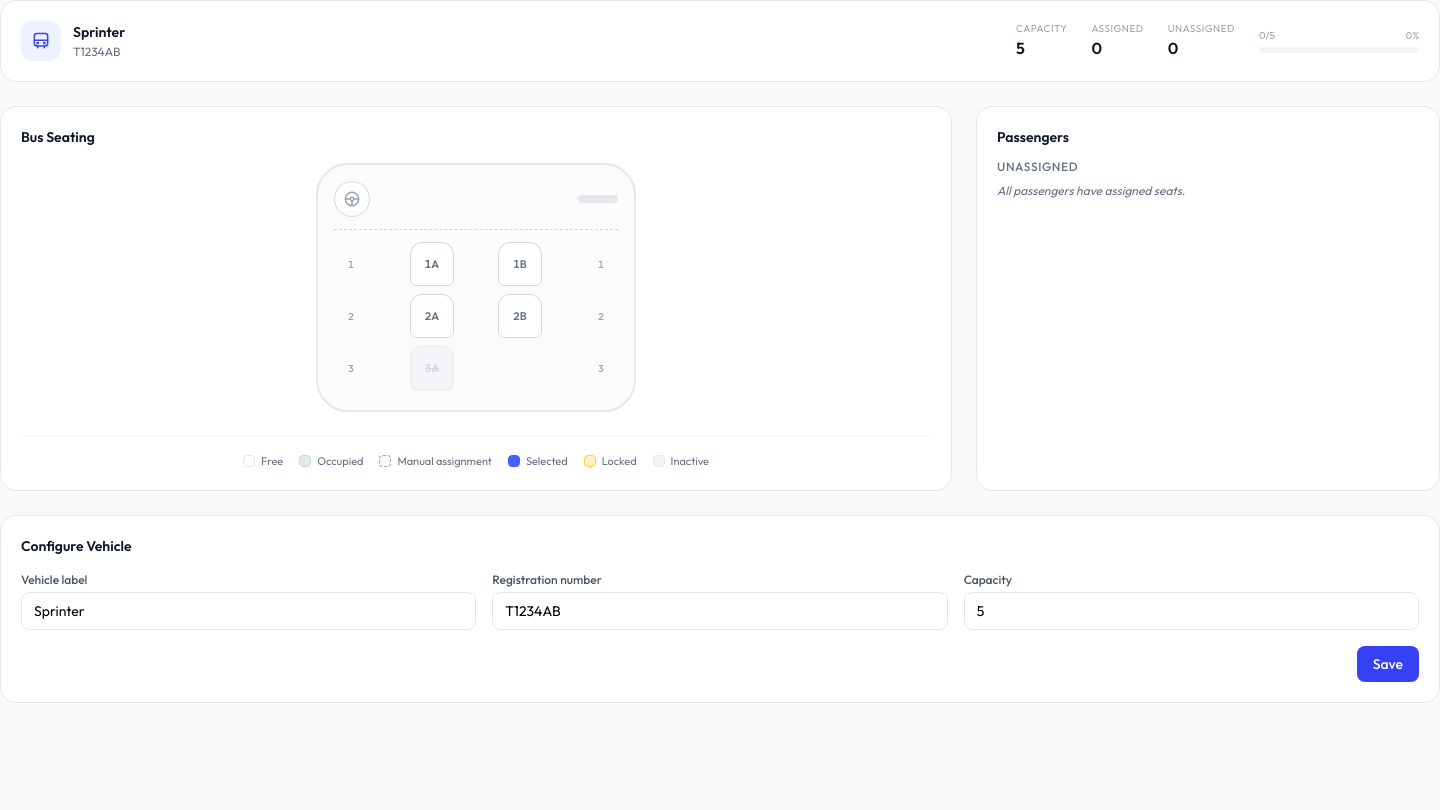
Test: ManualBusSeating › shows capacity conflict when vehicle update returns VEHICLE_CHANGE_CONFLICT
Expected: the heading "Sprinter" is shown, [73,22,125,42]
Click the button "Save". click: (1388,664)
box: [1357,646,1419,682]
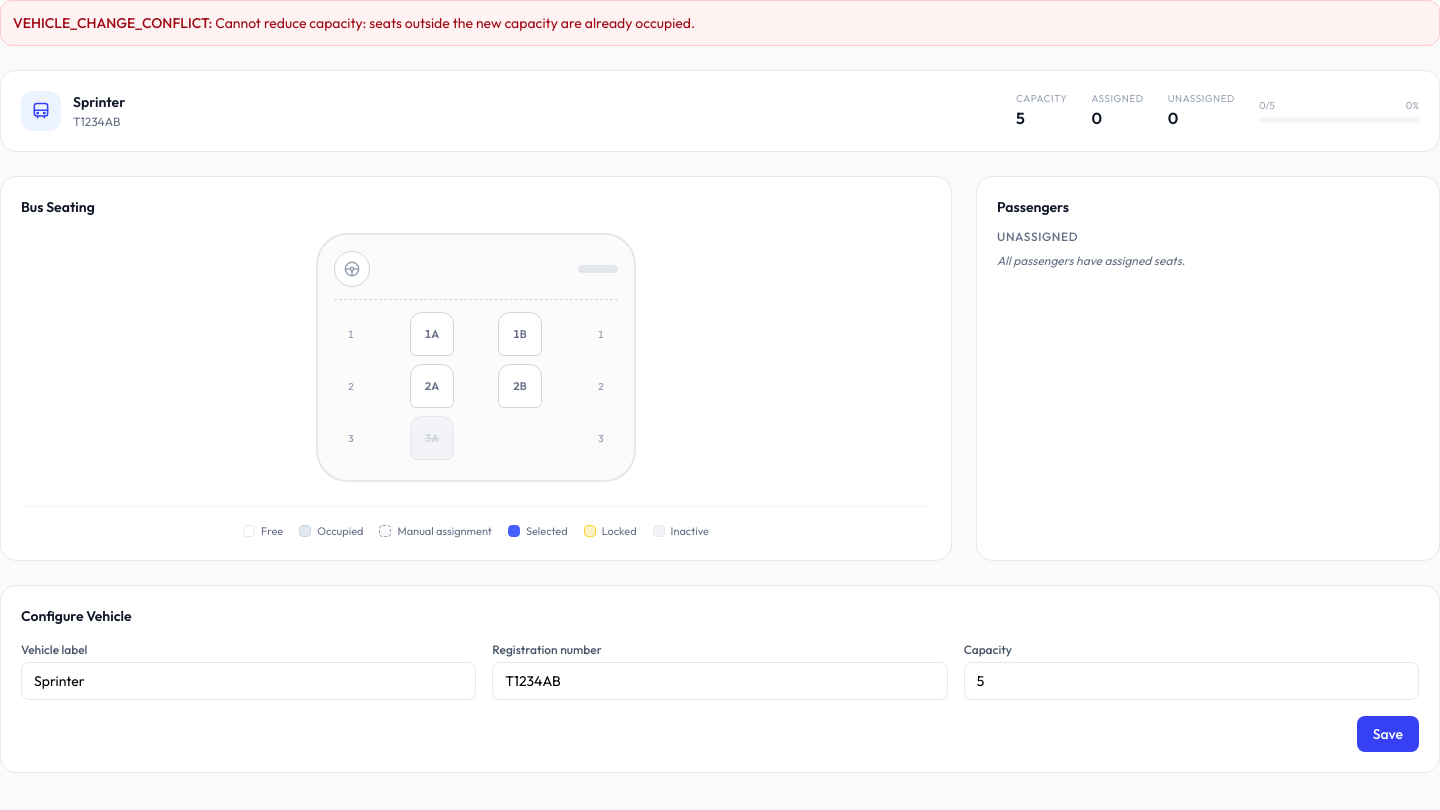
Now the text "Cannot reduce capacity" is shown, box [215,14,695,32]
